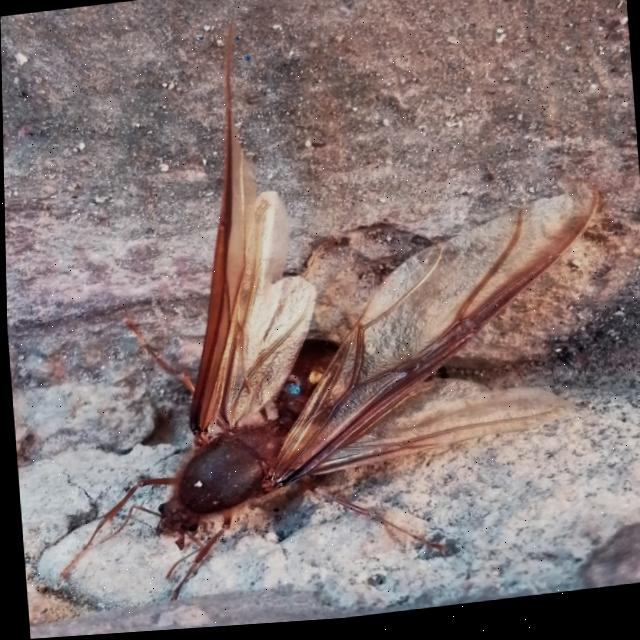Alive-Male-Alate: (19, 0, 624, 617)
